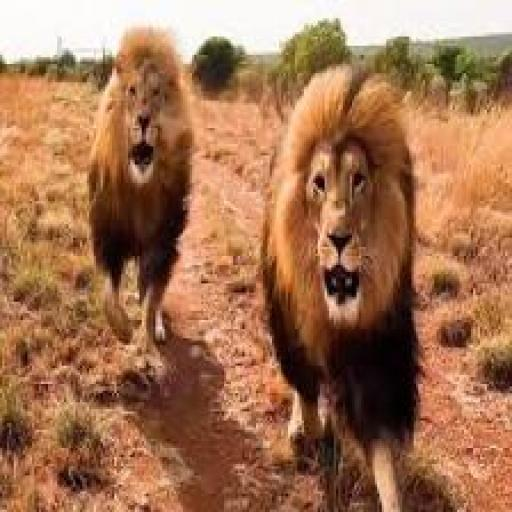lion: (85, 39, 208, 370)
